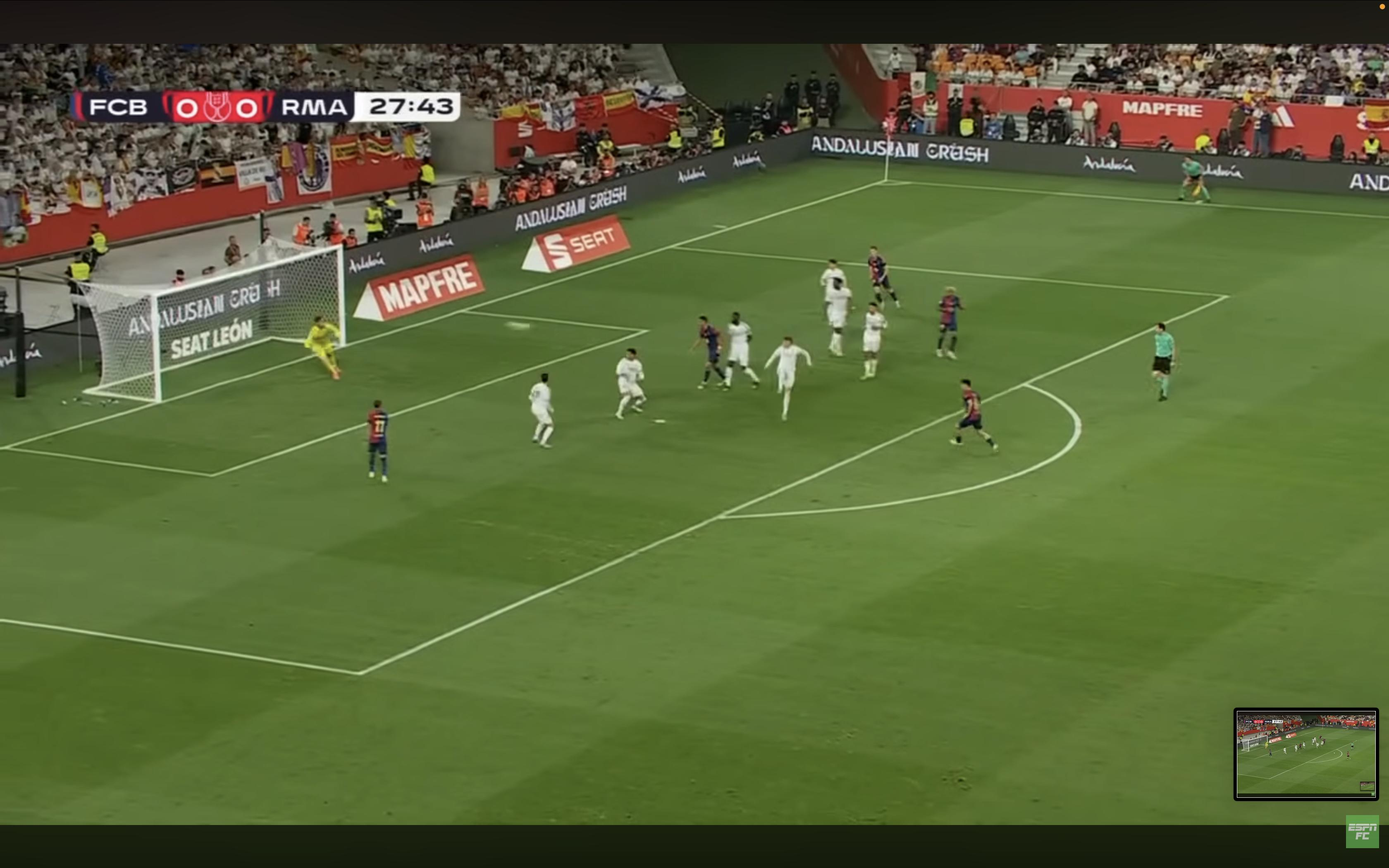ball: (506, 321, 531, 331)
goalkeeper: (304, 316, 341, 379)
player: (764, 336, 812, 421), (951, 379, 998, 451), (690, 317, 731, 389), (820, 259, 847, 355), (728, 312, 760, 388), (825, 278, 852, 357), (616, 348, 646, 419), (862, 303, 888, 379), (936, 287, 963, 359), (868, 247, 899, 308), (529, 373, 554, 447), (367, 400, 389, 482), (1346, 743, 1353, 758)
referee: (1152, 323, 1177, 401), (1178, 156, 1210, 202)
